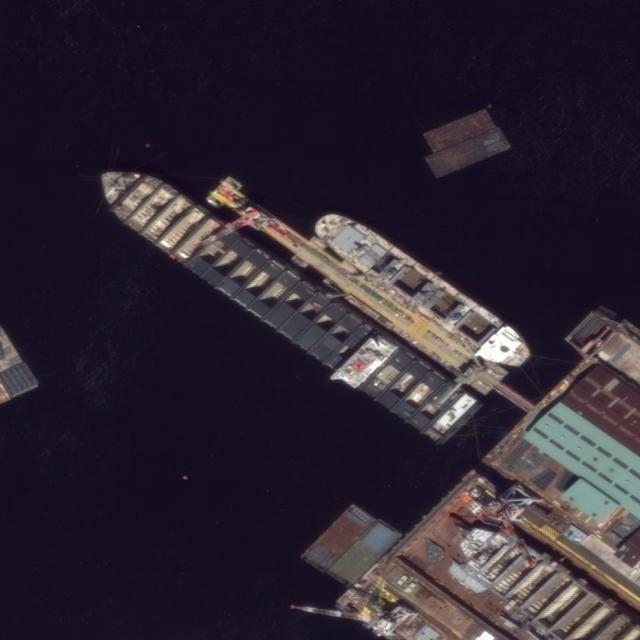Cargo: (77, 146, 490, 460), (303, 197, 541, 383)
Dock: (204, 175, 543, 425)
